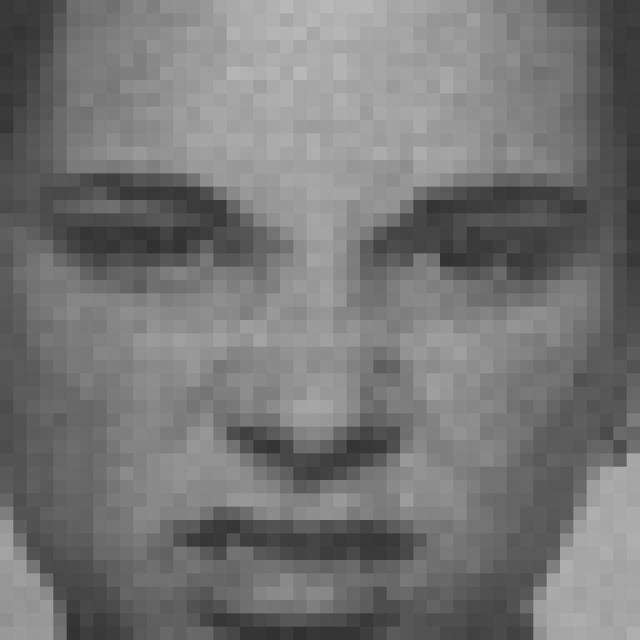disgust: (38, 161, 601, 640)
